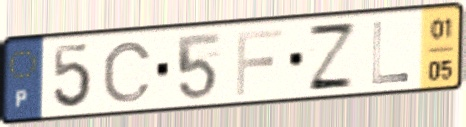5: (174, 30, 224, 103), (49, 40, 95, 112)
C: (100, 39, 155, 105)
F: (232, 26, 285, 98)
L: (369, 19, 412, 87)
Z: (304, 21, 361, 93)
